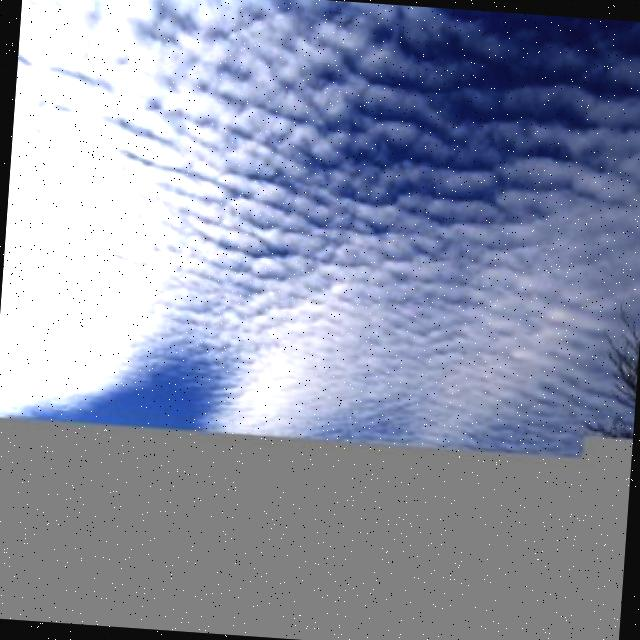Ac: (5, 1, 640, 379)
